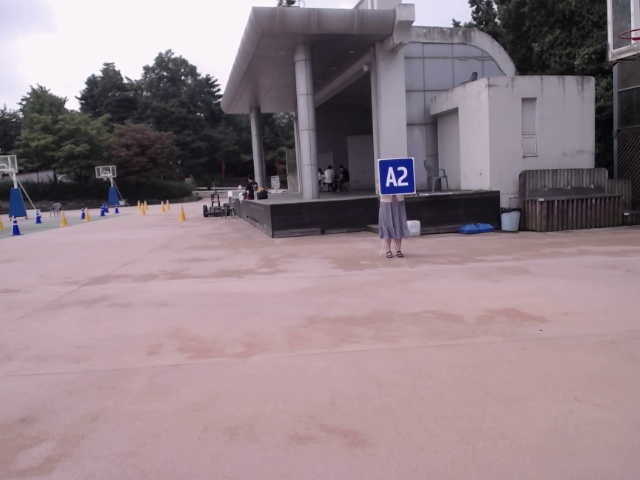delivery_a2: (378, 157, 416, 195)
